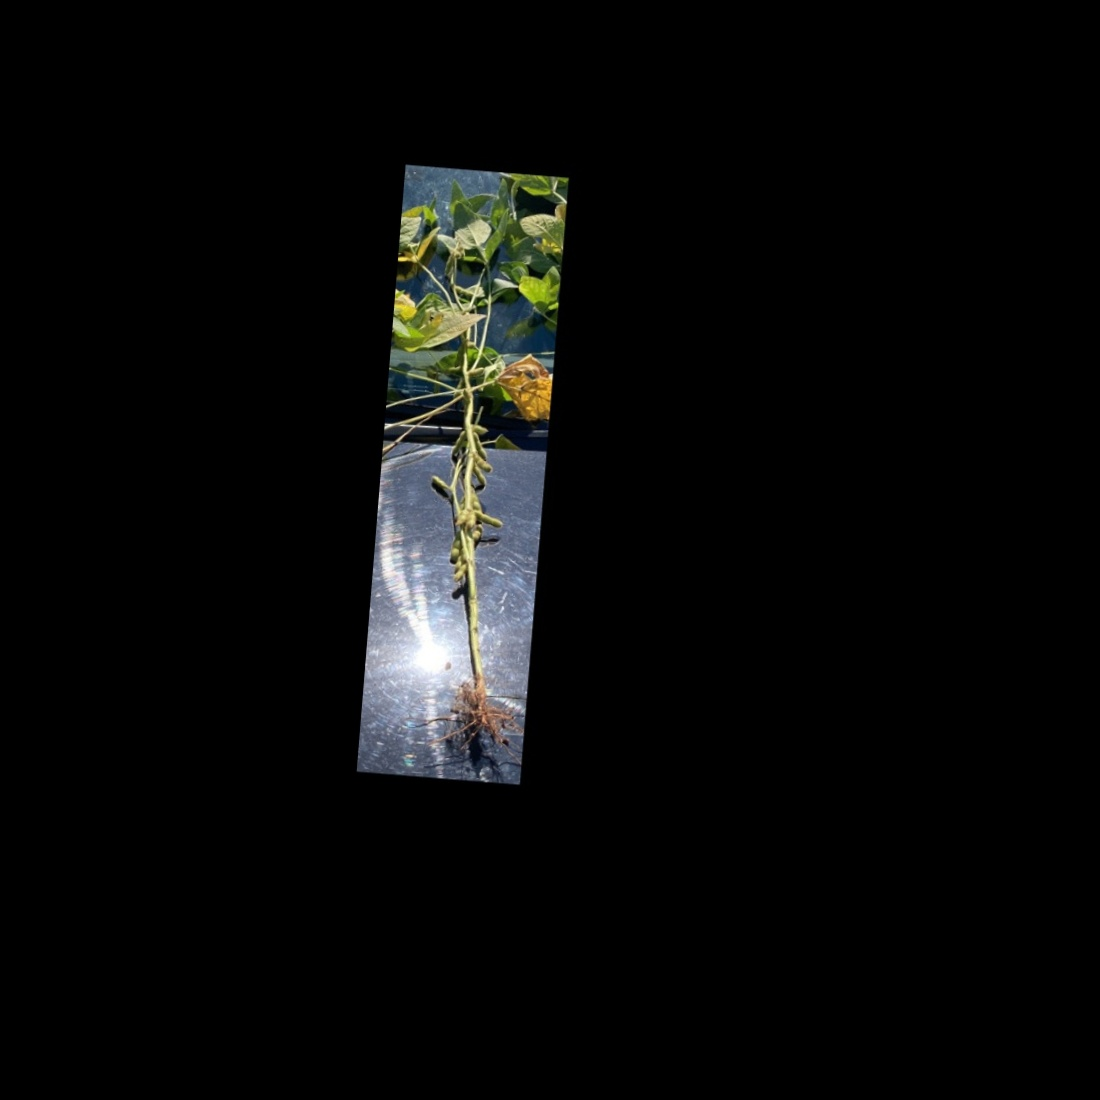pod: (446, 426, 470, 461), (473, 509, 505, 530), (470, 449, 495, 475), (468, 461, 490, 489), (428, 473, 452, 493), (448, 562, 466, 586), (444, 538, 462, 562)
soy: (380, 173, 560, 758)
